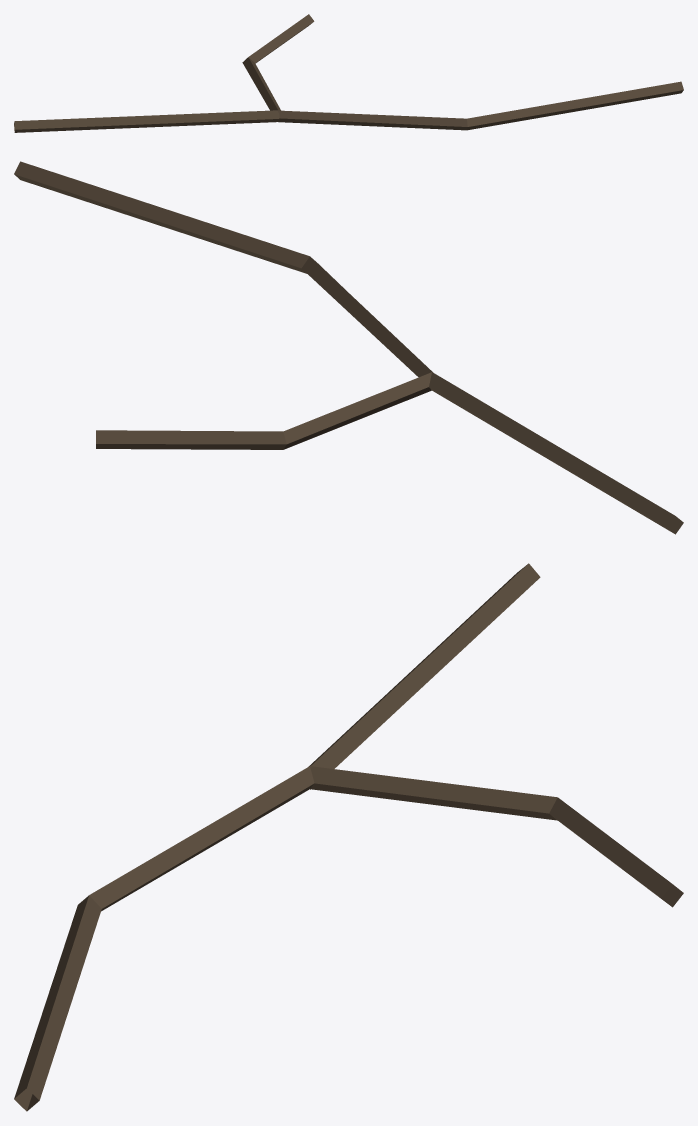
Rendered from SM_Envr_Nature_Plant_Root_02.fbx.
3 views of the same model, one above another, from view 1: azimuth 30°, elevation 25°; view 2: azimuth 150°, elevation 25°; view 3: azimuth 270°, elevation 25° (orthographic). The views are drawn at different scales.
Parts seen in each view (by area): view 1: SM_Envr_Nature_Plant_Root_02; view 2: SM_Envr_Nature_Plant_Root_02; view 3: SM_Envr_Nature_Plant_Root_02.
Part boxes in pixels (bbox=[...]): SM_Envr_Nature_Plant_Root_02: bbox=[14, 14, 683, 132]; SM_Envr_Nature_Plant_Root_02: bbox=[14, 161, 683, 534]; SM_Envr_Nature_Plant_Root_02: bbox=[14, 563, 683, 1111].
Size of the model in its own units: 100 by 2.08 by 53.79.
